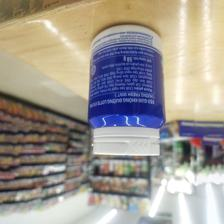Xylitol_blue: (86, 22, 166, 158)
